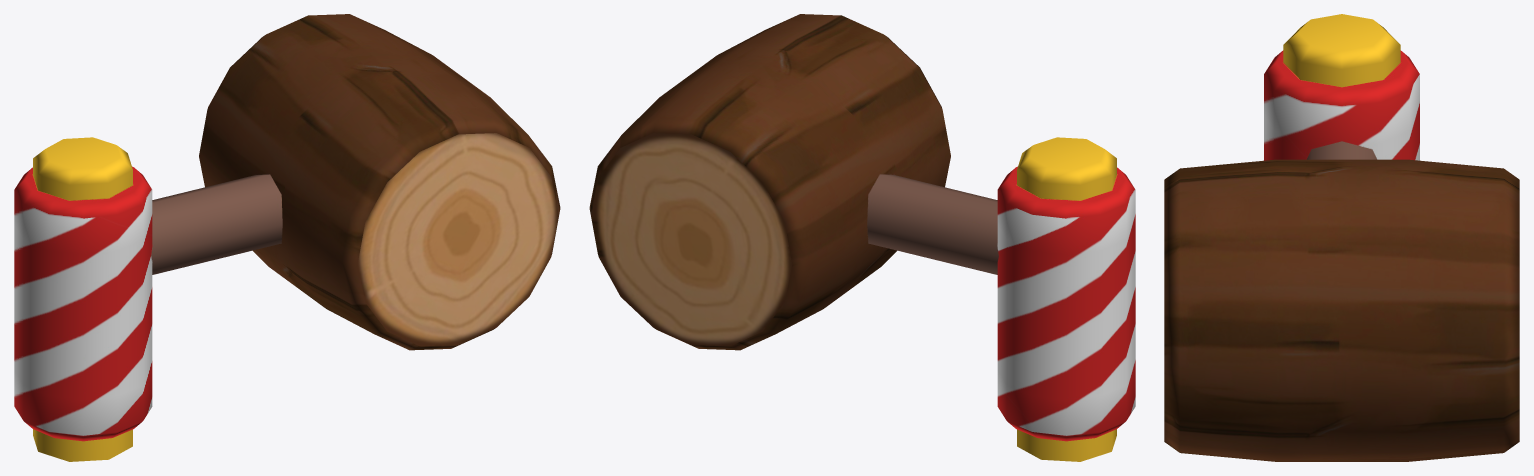
File: OBS0110235.fbx
3 views of the same model, side by side, from view 1: azimuth 30°, elevation 25°; view 2: azimuth 150°, elevation 25°; view 3: azimuth 270°, elevation 25° (orthographic). The views are drawn at different scales.
Parts seen in each view (by area): view 1: smOBS0110235; view 2: smOBS0110235; view 3: smOBS0110235.
Boxes of the visible parts, x1,y1,x2,y2 form: smOBS0110235: (14, 14, 560, 461); smOBS0110235: (589, 14, 1135, 461); smOBS0110235: (1164, 14, 1519, 461).
Bounding box in the file's own units: 273 × 170 × 157.
1 material, 1 textured.
